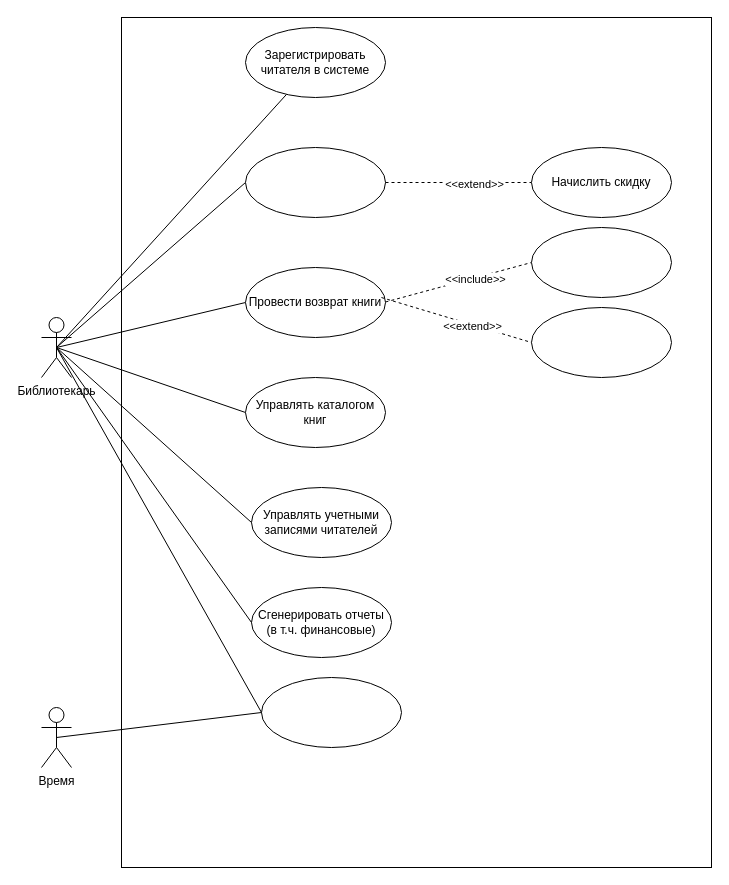
The diagram is 729 pixels wide and 885 high, and some of its shapes have lost their labels. The shapes that lost their labels are listed below. From the top down, each one's centre as x and y in pixels, then its label:
At (315,182): "Зарегистрировать взятие книги читателем".
At (601,262): "Провести оплату".
At (601,342): "Начислить штраф".
At (331,712): "Отправить уведомление".
